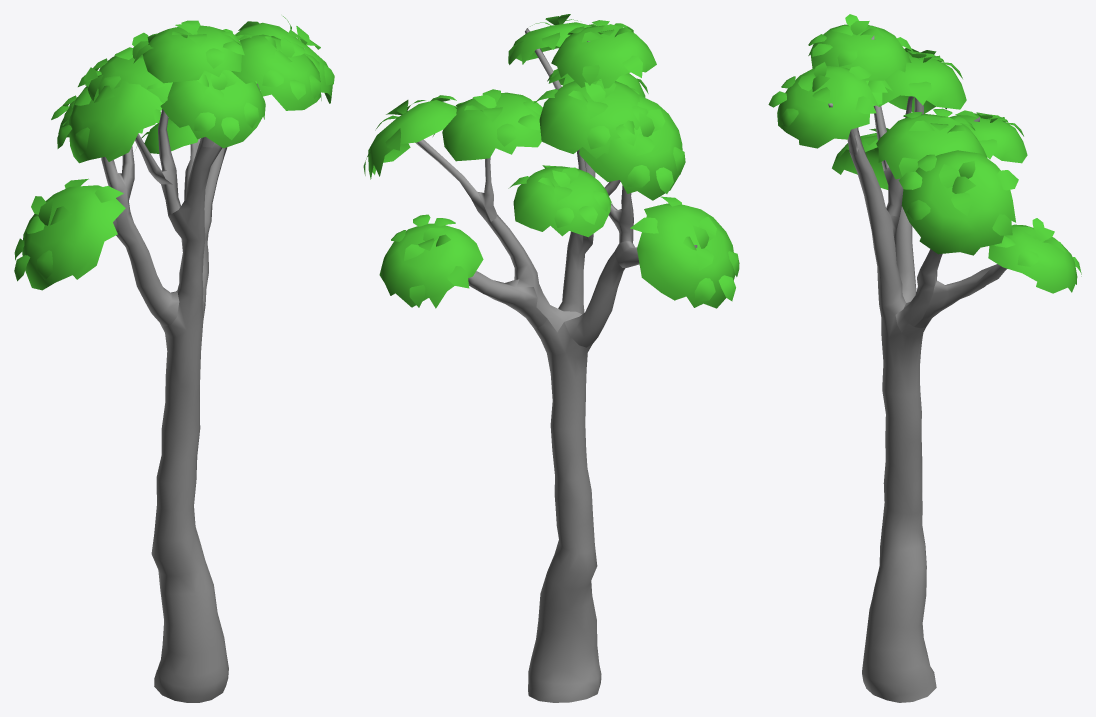
File: birch.FBX
3 renders of one model, left to right at view 1: azimuth 30°, elevation 25°; view 2: azimuth 150°, elevation 25°; view 3: azimuth 270°, elevation 25°, orthographic. The views are drawn at different scales.
Visible parts, largest first — view 1: 2leaves_LOD0, 2_trunk_LOD0; view 2: 2leaves_LOD0, 2_trunk_LOD0; view 3: 2leaves_LOD0, 2_trunk_LOD0.
Boxes of the visible parts, bbox=[...] form: 2leaves_LOD0: bbox=[14, 16, 334, 290]; 2_trunk_LOD0: bbox=[101, 48, 304, 702]; 2leaves_LOD0: bbox=[363, 14, 739, 308]; 2_trunk_LOD0: bbox=[415, 28, 697, 702]; 2leaves_LOD0: bbox=[768, 14, 1081, 293]; 2_trunk_LOD0: bbox=[828, 35, 1007, 702].
Size of what is drawn, in the model's own units: 304 by 583 by 253.
